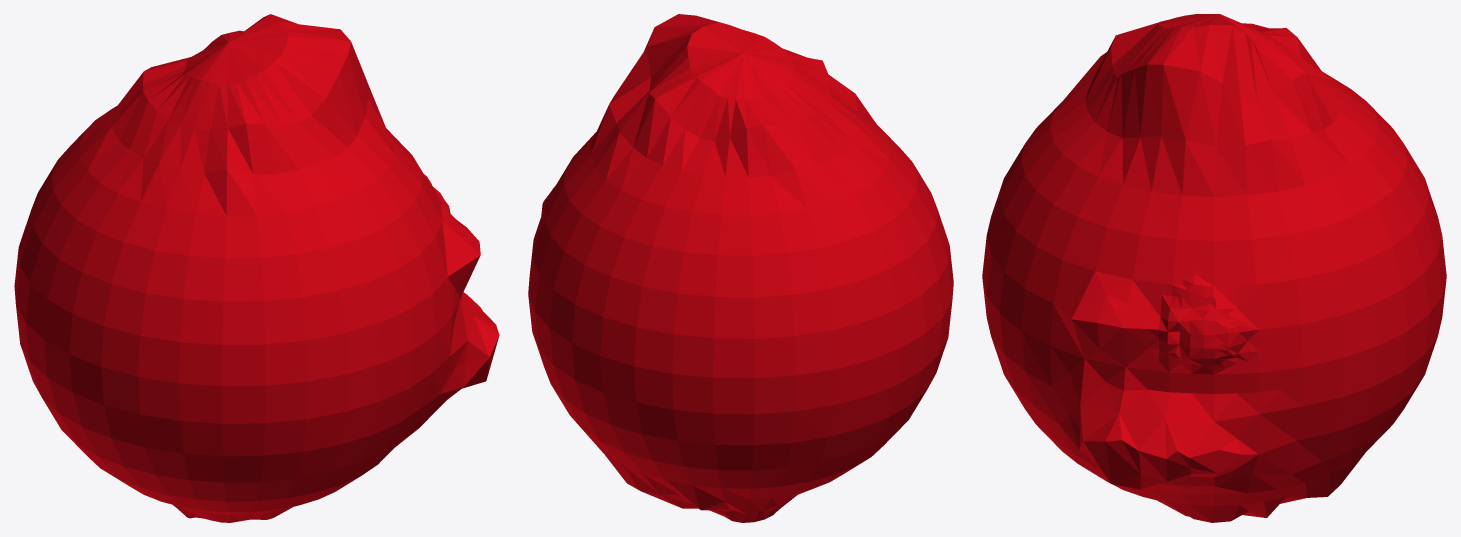
The model's file is mother_blob2.fbx.
3 renders of one model, left to right at view 1: azimuth 30°, elevation 25°; view 2: azimuth 150°, elevation 25°; view 3: azimuth 270°, elevation 25°, orthographic. The views are drawn at different scales.
Visible parts, largest first — view 1: Sphere; view 2: Sphere; view 3: Sphere.
Part boxes in pixels (x1,y1,x2,y2): Sphere: (14,14,499,522); Sphere: (528,14,953,522); Sphere: (982,14,1446,522).
Bounding box in the file's own units: 2.18 × 2.41 × 2.
